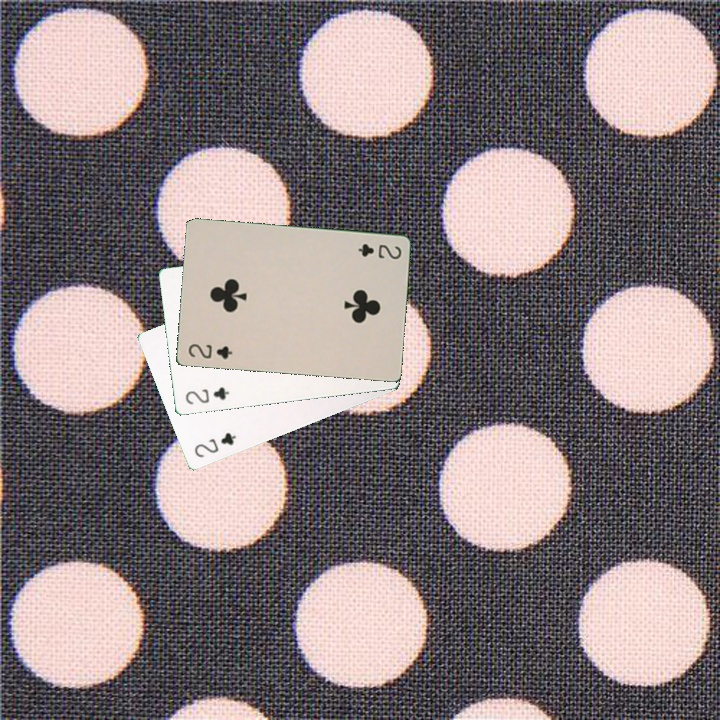2c: (190, 428, 239, 460), (181, 383, 232, 407), (354, 239, 404, 262), (184, 340, 235, 362)
